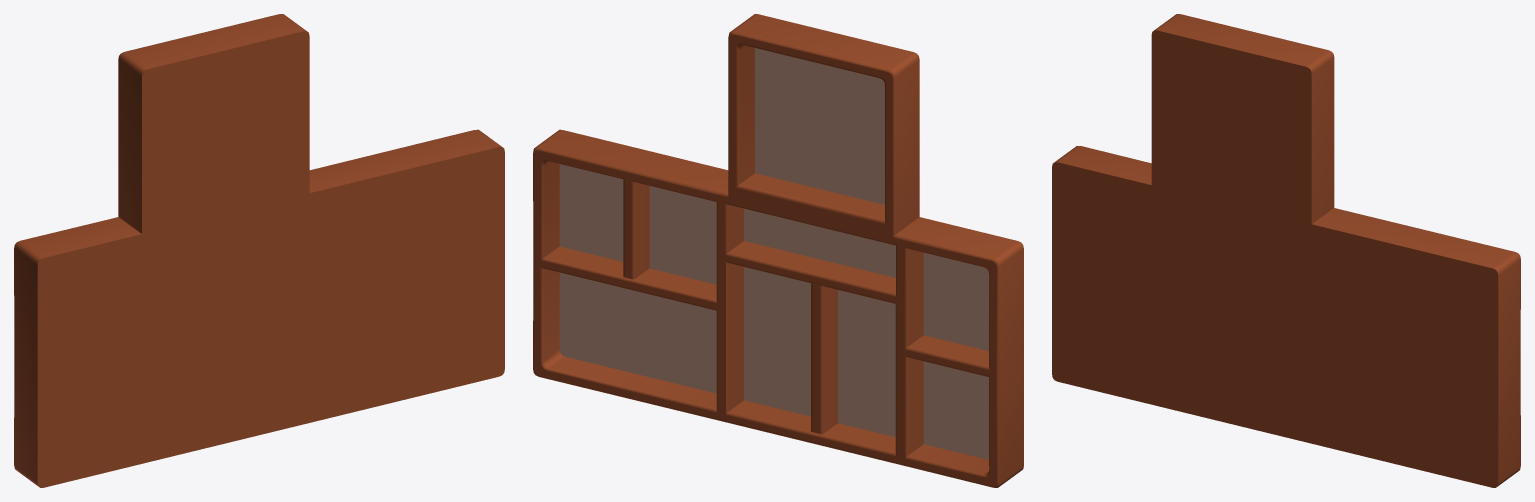
The model's file is Сabinets.FBX.
The picture shows the model from 3 angles, left to right: view 1: azimuth 30°, elevation 25°; view 2: azimuth 150°, elevation 25°; view 3: azimuth 330°, elevation 25°; orthographic projection. The views are drawn at different scales.
Parts seen in each view (by area): view 1: Сabinets; view 2: Сabinets; view 3: Сabinets.
Part boxes in pixels (x1=…): Сabinets: x1=14, y1=14, x2=504, y2=487; Сabinets: x1=533, y1=14, x2=1023, y2=487; Сabinets: x1=1052, y1=14, x2=1520, y2=487.
Bounding box in the file's own units: 55.44 × 44.59 × 5.12.
